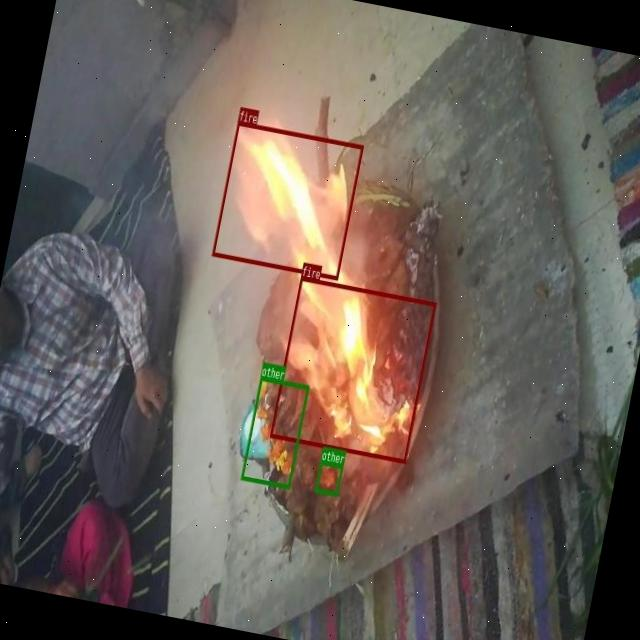fire: (269, 276, 436, 462), (212, 120, 364, 280)
